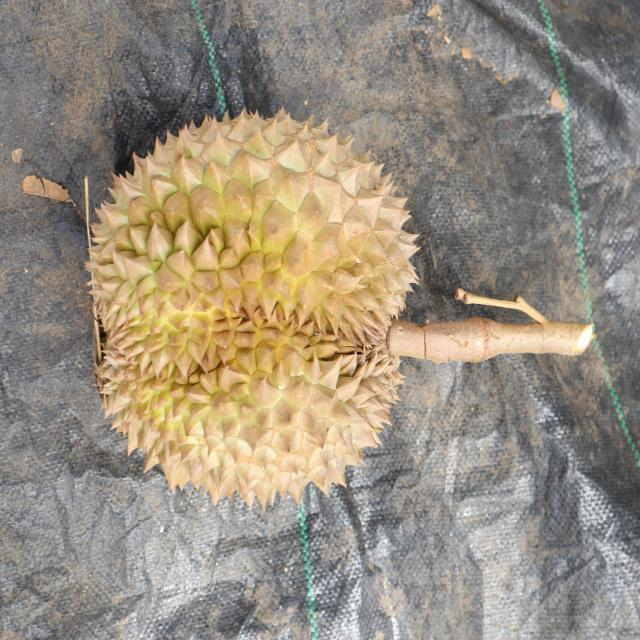mature: (81, 101, 419, 511)
